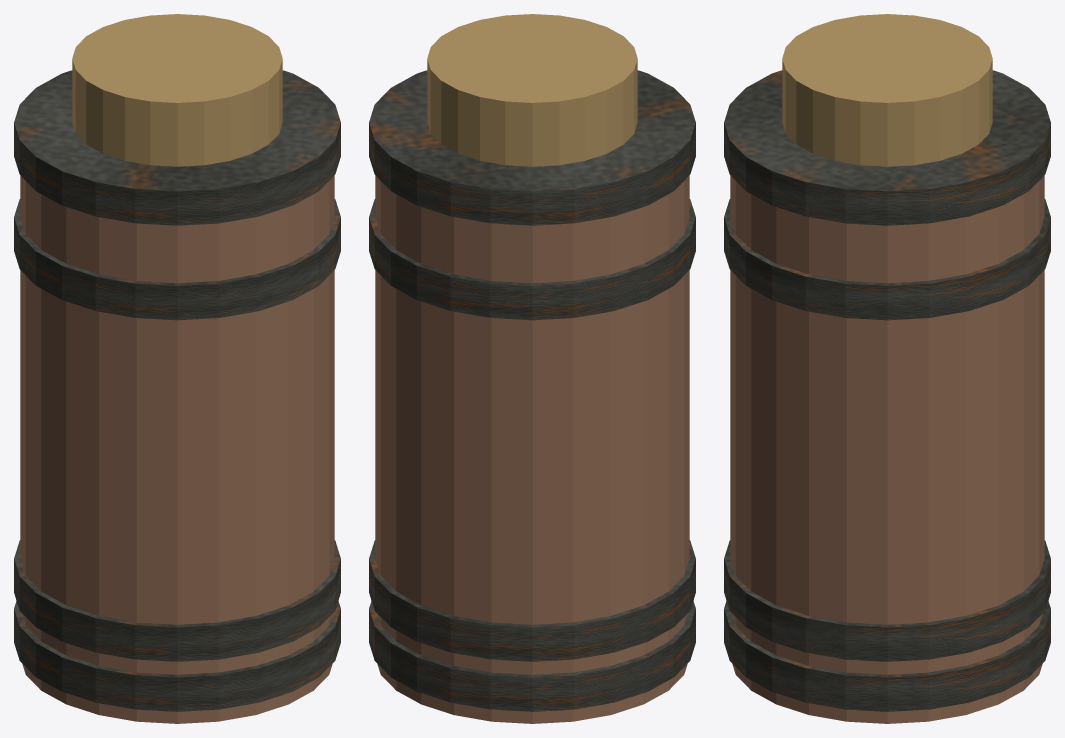
Rendered from botol.glb.
3 renders of one model, left to right at view 1: azimuth 30°, elevation 25°; view 2: azimuth 150°, elevation 25°; view 3: azimuth 270°, elevation 25°, orthographic.
Visible parts, largest first — view 1: Badan.002, Tutup, Cincin.011, Cincin.009, Cincin.010, Cincin.008; view 2: Badan.002, Tutup, Cincin.011, Cincin.009, Cincin.010, Cincin.008; view 3: Badan.002, Tutup, Cincin.011, Cincin.009, Cincin.010, Cincin.008.
Part boxes in pixels (x1,y1,x2,y2): Badan.002: [20, 175, 334, 723]; Tutup: [72, 14, 282, 166]; Cincin.011: [14, 70, 340, 225]; Cincin.009: [14, 540, 340, 661]; Cincin.010: [14, 199, 340, 320]; Cincin.008: [14, 601, 340, 711]; Badan.002: [375, 175, 689, 723]; Tutup: [427, 14, 637, 166]; Cincin.011: [369, 70, 695, 225]; Cincin.009: [369, 540, 695, 661]; Cincin.010: [369, 199, 695, 320]; Cincin.008: [369, 601, 695, 711]; Badan.002: [730, 175, 1044, 723]; Tutup: [782, 14, 992, 166]; Cincin.011: [724, 70, 1050, 225]; Cincin.009: [724, 540, 1050, 661]; Cincin.010: [724, 199, 1050, 320]; Cincin.008: [724, 601, 1050, 711].
Size of the model in its own units: 0.0603 by 0.122 by 0.0603.
3 materials, 1 textured.
